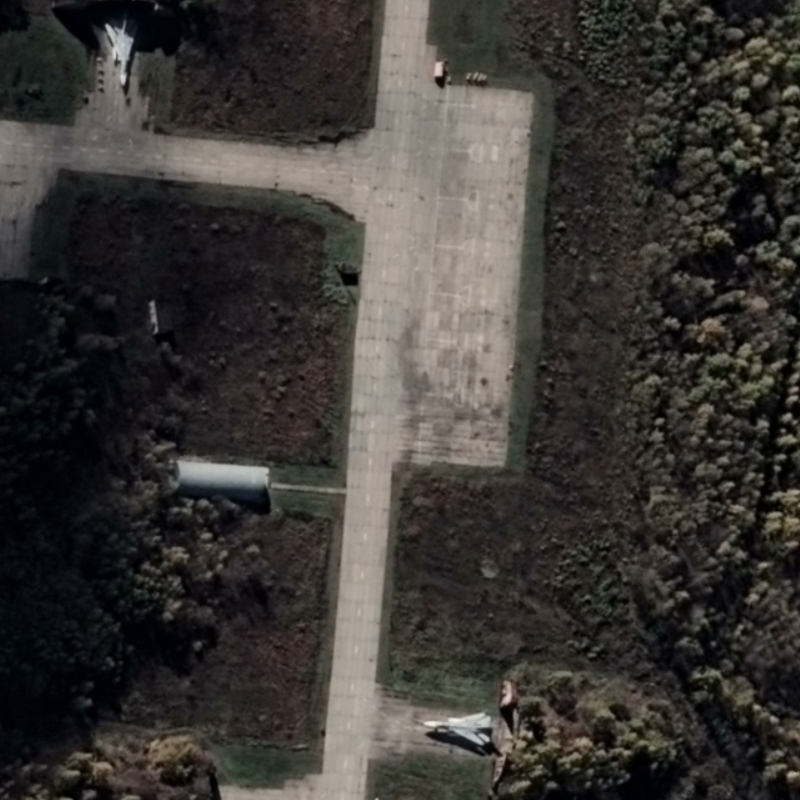A20: (422, 711, 494, 747), (103, 19, 136, 87)
